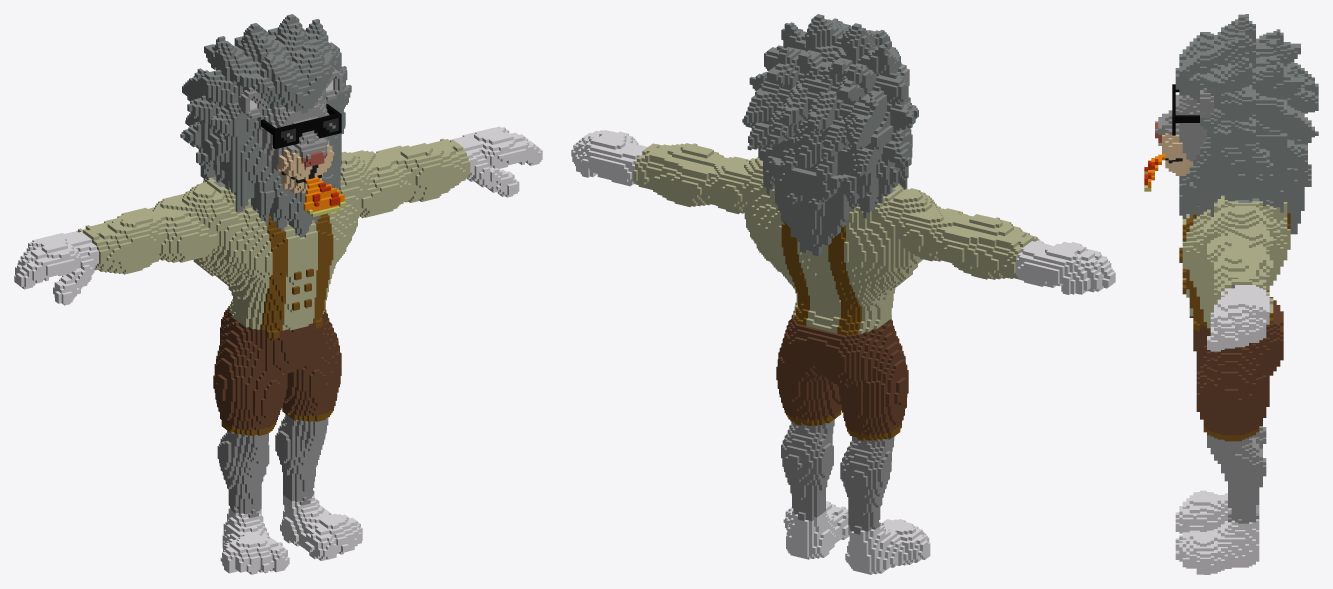
File: 300-tvPIQnSE.glb
3 views of the same model, side by side, from view 1: azimuth 30°, elevation 25°; view 2: azimuth 150°, elevation 25°; view 3: azimuth 270°, elevation 25° (orthographic). The views are drawn at different scales.
Visible parts, largest first — view 1: pizza; view 2: pizza; view 3: pizza.
Part boxes in pixels (box(x1,y1,x2,y2)): pizza: box(14, 14, 542, 574); pizza: box(571, 14, 1115, 574); pizza: box(1144, 14, 1318, 574).
Size of the model in its own units: 17.2 by 16.5 by 5.
Materials: 5 (5 with a texture image).
